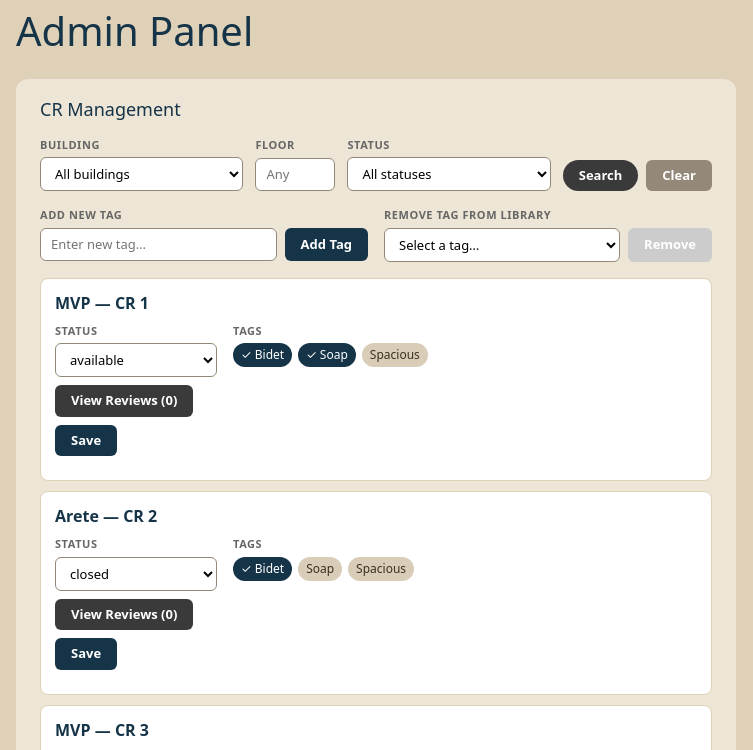
Test: CR Management — filter bar › filters by building — only shows CRs from the selected building
Select "MVP" in the dropdown showing "All buildings" below "Building" at x=142, y=174, box [40, 157, 243, 191]
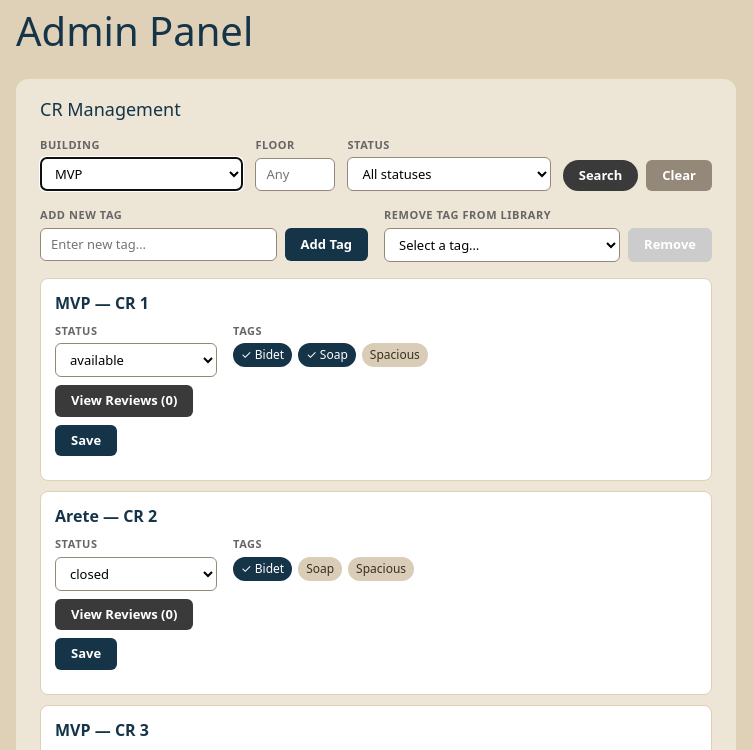
Click the button "Search" at x=601, y=175, box [563, 160, 638, 191]
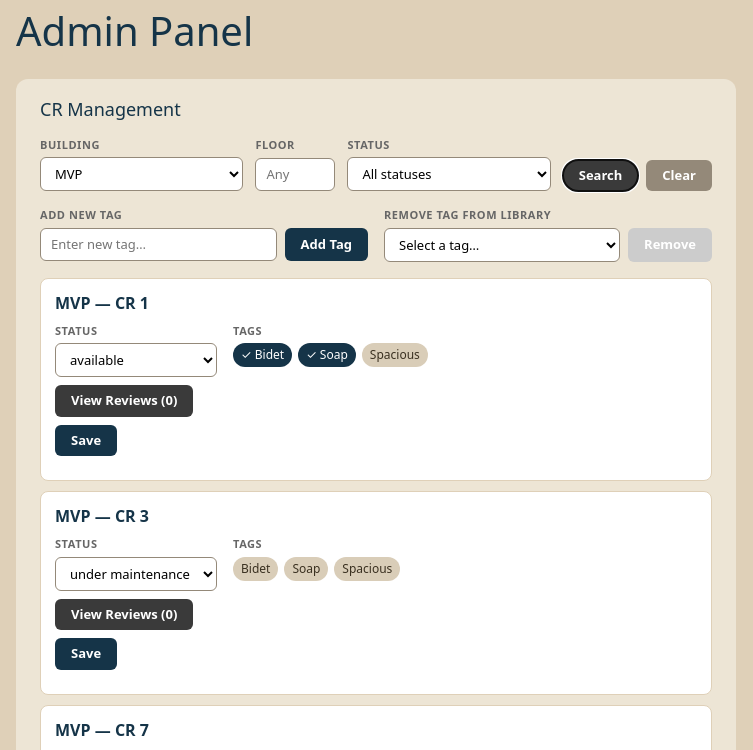
Expected: the text "MVP — CR 1" is shown, [55, 292, 149, 314]
Result: the text "Arete — CR 2" is gone
